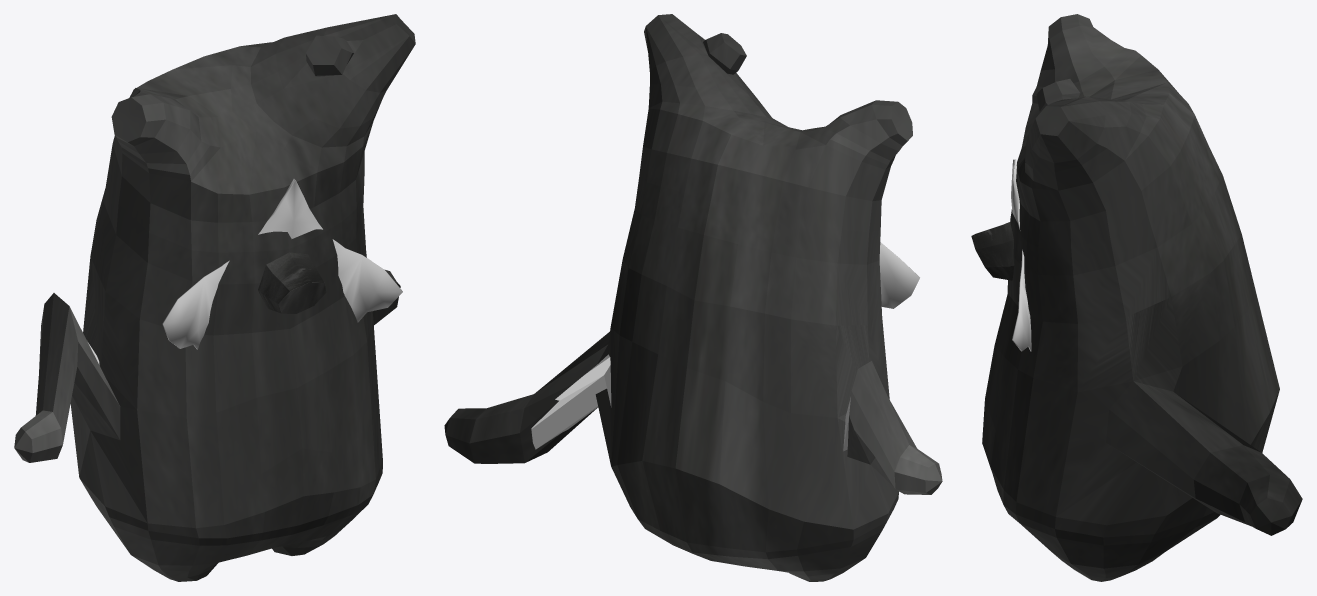
Rendered from frame_0015.obj.
3 views of the same model, side by side, from view 1: azimuth 30°, elevation 25°; view 2: azimuth 150°, elevation 25°; view 3: azimuth 270°, elevation 25° (orthographic). The views are drawn at different scales.
Visible parts, largest first — view 1: korok, leaf, nose; view 2: korok, leaf; view 3: korok, nose, leaf.
Part boxes in pixels (x1=…): korok: x1=14, y1=14, x2=415, y2=581; leaf: x1=162, y1=179, x2=402, y2=349; nose: x1=258, y1=252, x2=326, y2=313; korok: x1=444, y1=14, x2=942, y2=581; leaf: x1=879, y1=242, x2=919, y2=308; korok: x1=982, y1=14, x2=1302, y2=581; nose: x1=971, y1=222, x2=1014, y2=280; leaf: x1=1011, y1=159, x2=1031, y2=351.
Bounding box in the file's own units: 1.96 × 2.19 × 1.3.
